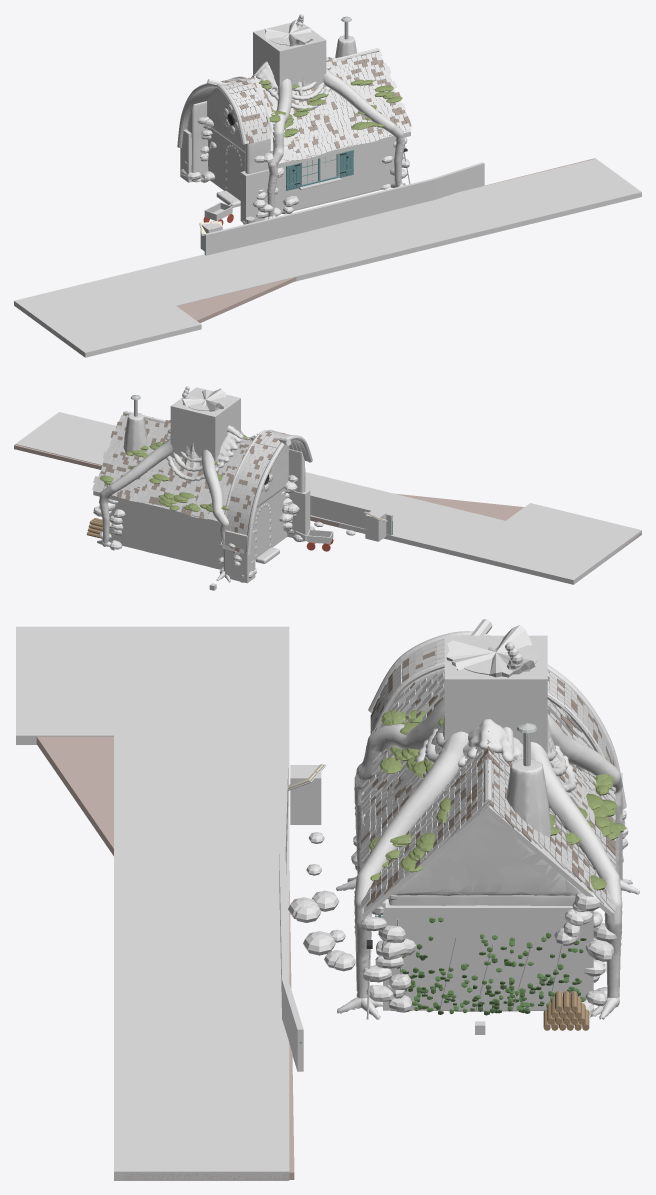
File: RS_huisje.fbx
3 renders of one model, top to bottom at view 1: azimuth 30°, elevation 25°; view 2: azimuth 150°, elevation 25°; view 3: azimuth 270°, elevation 25°, orthographic. The views are drawn at different scales.
Parts seen in each view (by area): view 1: COLL_7, COLL_8, static__TEX_lei_0, COLL_0, static__TEX_hout_0, COLL_5, COLL_3, static__TEX_schors_1, static__TEX_stuc_1, static__MAT_lei2_0, COLL_4, static__TEX_schors_0 (+10 smaller); view 2: COLL_7, COLL_0, COLL_8, static__TEX_lei_1, COLL_3, static__TEX_hout_0, static__TEX_lei_0, static__MAT_lei2_0, static__TEX_schors_0, static__MAT_flagstone_0, static__TEX_schors_2, static__TEX_stuc_1 (+11 smaller); view 3: COLL_7, COLL_8, COLL_0, static__TEX_schors_1, static__TEX_lei_0, COLL_3, static__TEX_hout_0, static__MAT_flagstone_0, static__TEX_stuc_1, static__TEX_stuc_0, static__TEX_schors_0, static__TEX_schors_2 (+13 smaller).
Part boxes in pixels (x1,y1,x2,y2): COLL_7: (14, 159, 641, 338); COLL_8: (19, 275, 201, 357); static__TEX_lei_0: (250, 49, 411, 160); COLL_0: (208, 129, 395, 212); static__TEX_hout_0: (177, 26, 410, 235); COLL_5: (298, 178, 434, 233); COLL_3: (253, 22, 326, 94); static__TEX_schors_1: (251, 68, 405, 216); static__TEX_stuc_1: (187, 88, 270, 181); static__MAT_lei2_0: (222, 54, 411, 153); COLL_4: (204, 212, 299, 255); static__TEX_schors_0: (251, 14, 331, 215); COLL_7: (15, 412, 617, 584); COLL_0: (108, 488, 287, 569); COLL_8: (466, 503, 641, 570); static__TEX_lei_1: (103, 411, 291, 553); COLL_3: (170, 387, 240, 466); static__TEX_hout_0: (93, 393, 387, 554); static__TEX_lei_0: (92, 411, 257, 519); static__MAT_lei2_0: (100, 412, 285, 552); static__TEX_schors_0: (166, 386, 243, 481); static__MAT_flagstone_0: (14, 444, 641, 551); static__TEX_schors_2: (97, 425, 242, 582); static__TEX_stuc_1: (223, 445, 305, 568); COLL_7: (114, 626, 289, 1180); COLL_8: (16, 626, 273, 744); COLL_0: (383, 905, 593, 1010); static__TEX_schors_1: (354, 697, 622, 998); static__TEX_lei_0: (360, 672, 615, 912); COLL_3: (444, 635, 547, 761); static__TEX_hout_0: (287, 619, 626, 1019); static__MAT_flagstone_0: (36, 736, 294, 1179); static__TEX_stuc_1: (386, 668, 617, 895); static__TEX_stuc_0: (388, 814, 576, 1011); static__TEX_schors_0: (354, 625, 577, 868); static__TEX_schors_2: (336, 722, 639, 1019).
Bounding box in the file's own units: 25 × 8.73 × 12.1.
